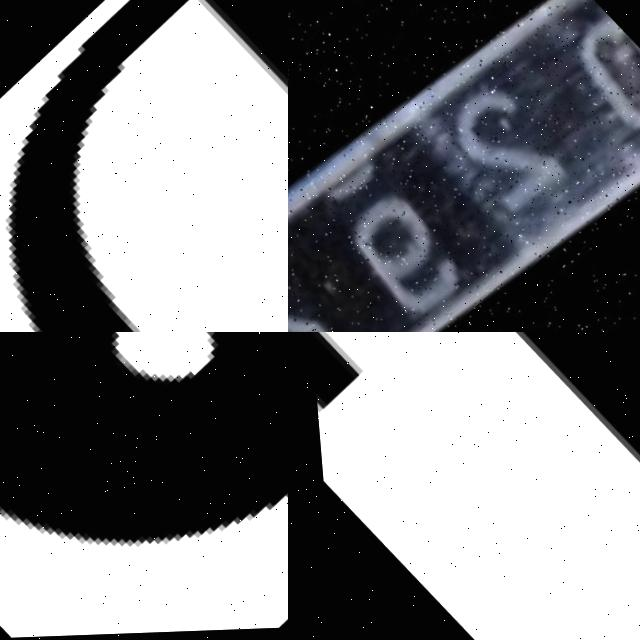0: (526, 0, 640, 173)
2: (408, 56, 600, 246), (288, 216, 354, 332)
6: (0, 332, 288, 640)
9: (306, 160, 493, 332)
D: (0, 0, 288, 332)
T: (288, 332, 640, 640)
